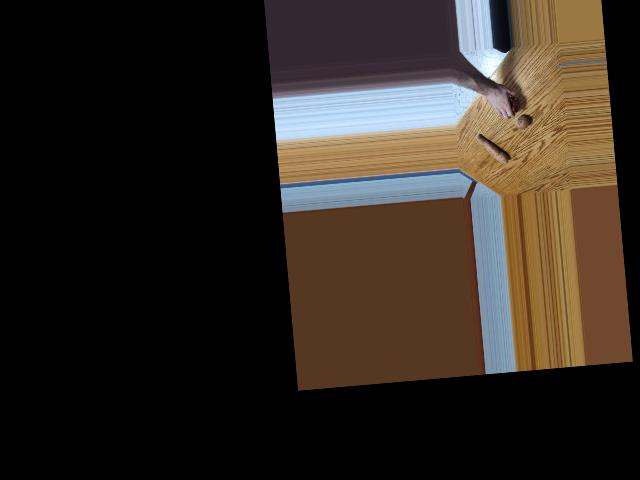onion: (514, 114, 527, 128)
